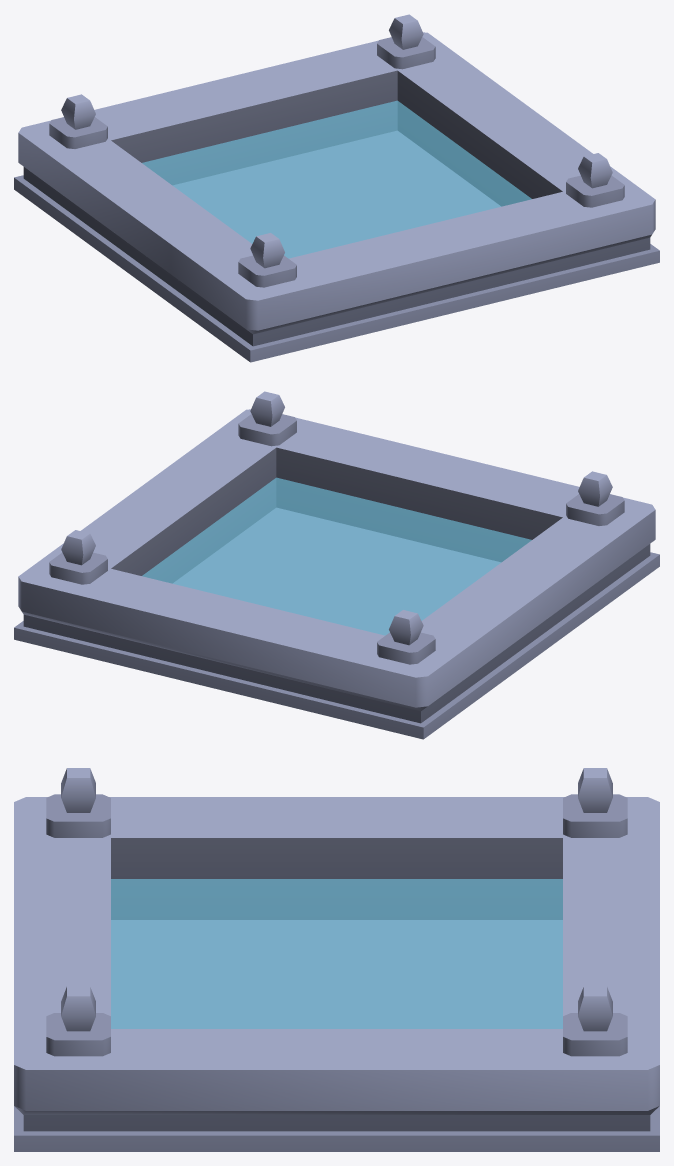
Rendered from fountain_square.glb.
The picture shows the model from 3 angles, top to bottom: view 1: azimuth 30°, elevation 25°; view 2: azimuth 150°, elevation 25°; view 3: azimuth 270°, elevation 25°; orthographic projection. The views are drawn at different scales.
Parts seen in each view (by area): view 1: fountain-square, (%ignore); view 2: fountain-square, (%ignore); view 3: fountain-square, (%ignore).
Part boxes in pixels (bbox=[...]): fountain-square: bbox=[14, 14, 659, 362]; (%ignore): bbox=[142, 100, 531, 258]; fountain-square: bbox=[14, 391, 659, 739]; (%ignore): bbox=[142, 477, 531, 635]; fountain-square: bbox=[14, 768, 659, 1151]; (%ignore): bbox=[111, 879, 562, 1028].
Size of the model in its own units: 2 by 0.4552 by 2.
2 materials, 1 textured.
